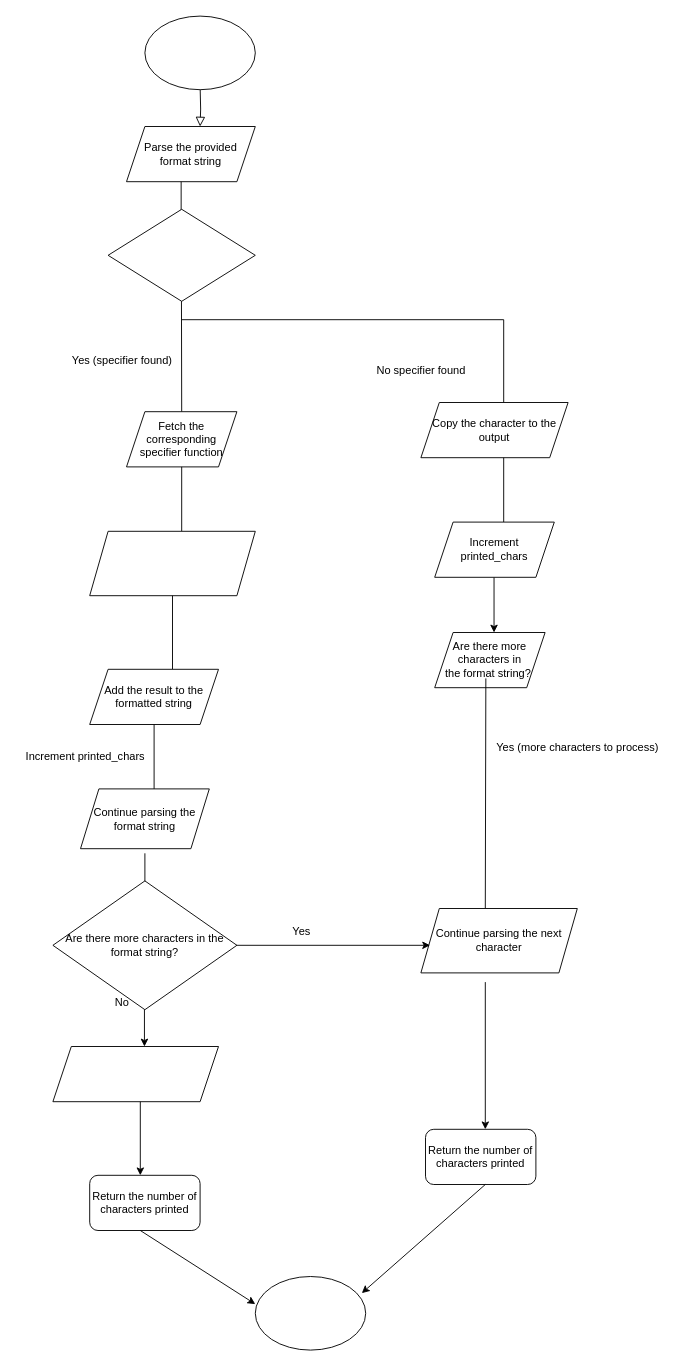
Some shapes in this 684 by 1366 pixel diagram are drawn without their labels. The shapes that lost their labels are listed below. From the top down, each one's centre as x and y in pixels, then its label:
At (x=199, y=52): "Start ( Call to printf)".
At (x=181, y=254): "Is there a format specifier?".
At (x=172, y=563): "Call the specifier function (e.g.,print_char, print_string, print_int, etc.)".
At (x=135, y=1074): "Print the formatted string to standard output (console)".
At (x=310, y=1313): "End".
